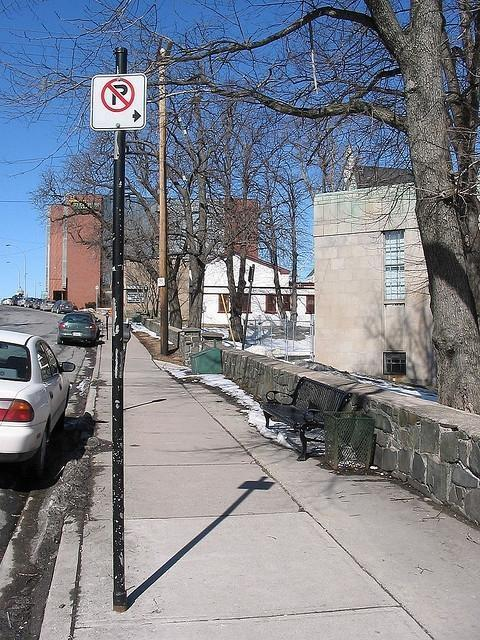car: (1, 330, 75, 480), (57, 312, 103, 346), (51, 299, 74, 315), (40, 300, 57, 310), (33, 298, 44, 310), (24, 298, 36, 308), (9, 296, 21, 306), (1, 298, 12, 306)
